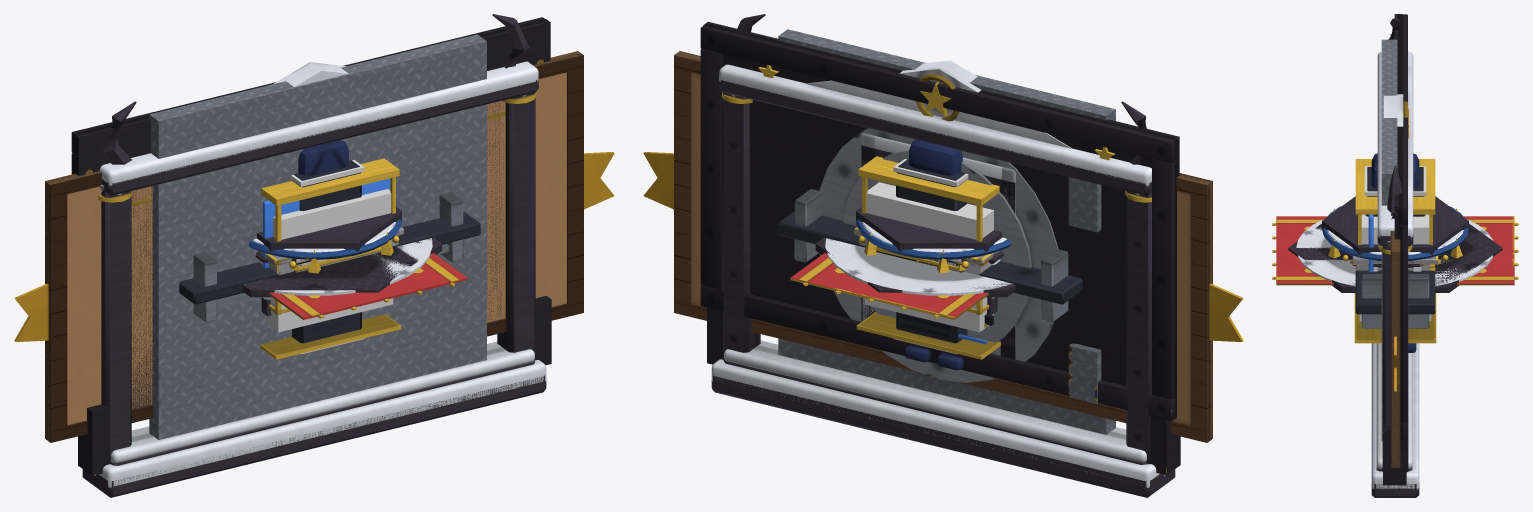
3 renders of one model, left to right at view 1: azimuth 30°, elevation 25°; view 2: azimuth 150°, elevation 25°; view 3: azimuth 270°, elevation 25°, orthographic. The views are drawn at different scales.
Visible parts, largest first — view 1: HqVaultFrame.001, HqTrophyWallSIron.001, HqCorkBoardCork.001, HqTrophyWallVStone.001, HqCorkBoardWood.001, HqBigScreenIron.001, HqRelicCaseGold.001, HqPadSRim.001, HqRelicCaseGlass.001, HqRigDeskTop.001, HqCarpetRed.001, HqTrophyWallSBack.001 (+9 smaller); view 2: HqBigScreenIron.001, HqTrophyWallSIron.001, HqTrophyWallVStone.001, HqCorkBoardWood.001, HqVaultFrame.001, HqVaultDoor.001, HqCorkBoardCork.001, HqRelicCaseGold.001, HqPadVRim.001, HqRelicCaseGlass.001, HqRigDeskTop.001, HqCarpetRed.001 (+10 smaller); view 3: HqTrophyWallVStone.001, HqBigScreenIron.001, HqCarpetRed.001, HqTrophyWallSIron.001, HqRelicCaseGold.001, HqPadSRim.001, HqVaultFrame.001, HqCommandSBody.001, HqPadVRim.001, HqCorkBoardCork.001, HqRigDeskLegs.001, HqRigDeskTop.001 (+9 smaller).
Boxes of the visible parts, left/top/right/bottom form: HqVaultFrame.001: left=149, top=34, right=486, bottom=439; HqTrophyWallSIron.001: left=82, top=14, right=546, bottom=497; HqCorkBoardCork.001: left=45, top=51, right=582, bottom=441; HqTrophyWallVStone.001: left=99, top=61, right=546, bottom=487; HqCorkBoardWood.001: left=45, top=51, right=583, bottom=442; HqBigScreenIron.001: left=71, top=17, right=551, bottom=475; HqRelicCaseGold.001: left=260, top=158, right=401, bottom=359; HqPadSRim.001: left=242, top=237, right=442, bottom=297; HqRelicCaseGlass.001: left=265, top=189, right=393, bottom=332; HqRigDeskTop.001: left=179, top=212, right=480, bottom=304; HqCarpetRed.001: left=269, top=253, right=467, bottom=319; HqTrophyWallSBack.001: left=131, top=103, right=503, bottom=409; HqBigScreenIron.001: left=700, top=21, right=1180, bottom=475; HqTrophyWallSIron.001: left=711, top=14, right=1175, bottom=497; HqTrophyWallVStone.001: left=711, top=60, right=1165, bottom=487; HqCorkBoardWood.001: left=674, top=51, right=1212, bottom=442; HqVaultFrame.001: left=778, top=29, right=1115, bottom=434; HqVaultDoor.001: left=819, top=128, right=1058, bottom=382; HqCorkBoardCork.001: left=675, top=51, right=1212, bottom=440; HqRelicCaseGold.001: left=856, top=156, right=1000, bottom=359; HqPadVRim.001: left=825, top=238, right=1012, bottom=295; HqRelicCaseGlass.001: left=864, top=182, right=993, bottom=332; HqRigDeskTop.001: left=777, top=211, right=1082, bottom=304; HqCarpetRed.001: left=790, top=253, right=988, bottom=319; HqTrophyWallVStone.001: left=1371, top=51, right=1419, bottom=489; HqBigScreenIron.001: left=1383, top=14, right=1407, bottom=485; HqCarpetRed.001: left=1276, top=216, right=1514, bottom=285; HqTrophyWallSIron.001: left=1371, top=18, right=1419, bottom=497; HqRelicCaseGold.001: left=1354, top=159, right=1436, bottom=343; HqPadSRim.001: left=1288, top=223, right=1502, bottom=292; HqVaultFrame.001: left=1381, top=39, right=1397, bottom=441; HqCommandSBody.001: left=1322, top=196, right=1468, bottom=254; HqPadVRim.001: left=1296, top=219, right=1492, bottom=286; HqCorkBoardCork.001: left=1391, top=34, right=1399, bottom=467; HqRigDeskLegs.001: left=1361, top=274, right=1429, bottom=328; HqRigDeskTop.001: left=1355, top=270, right=1435, bottom=314.
Size of the model in its own units: 29.2 by 17.63 by 12.42.
Materials: 74 (74 with a texture image).
